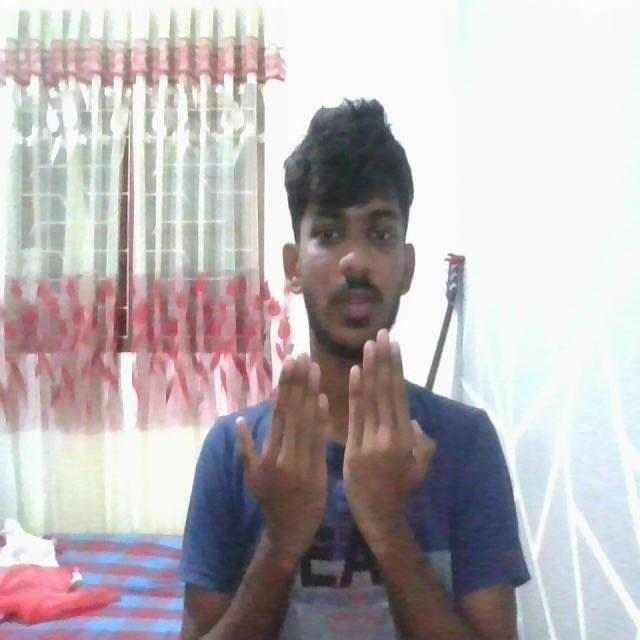ThankYou: (158, 298, 540, 640)
